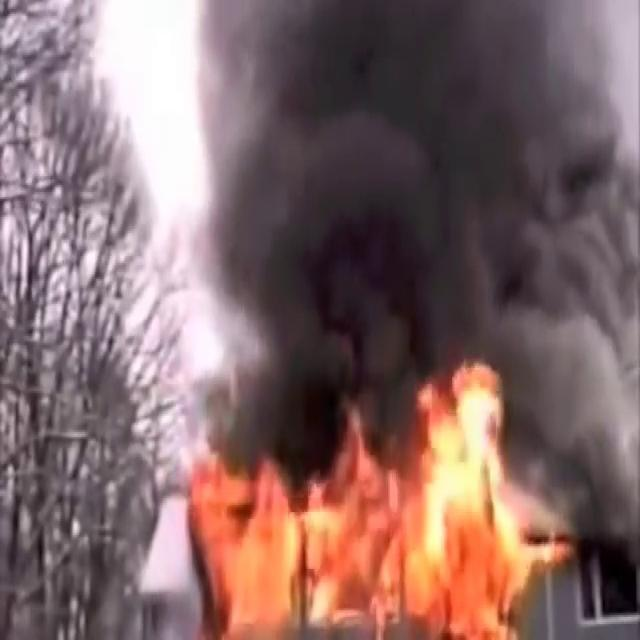Fire: (191, 358, 551, 639)
Smoke: (157, 0, 640, 485)
